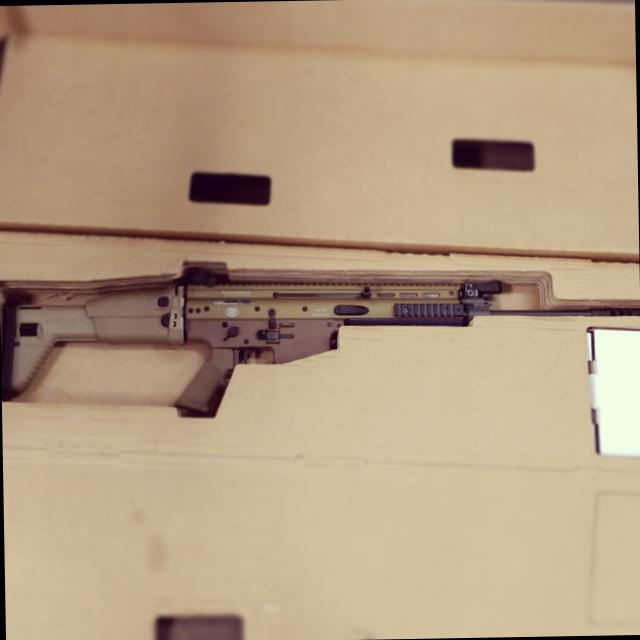Gun: (0, 220, 640, 463)
